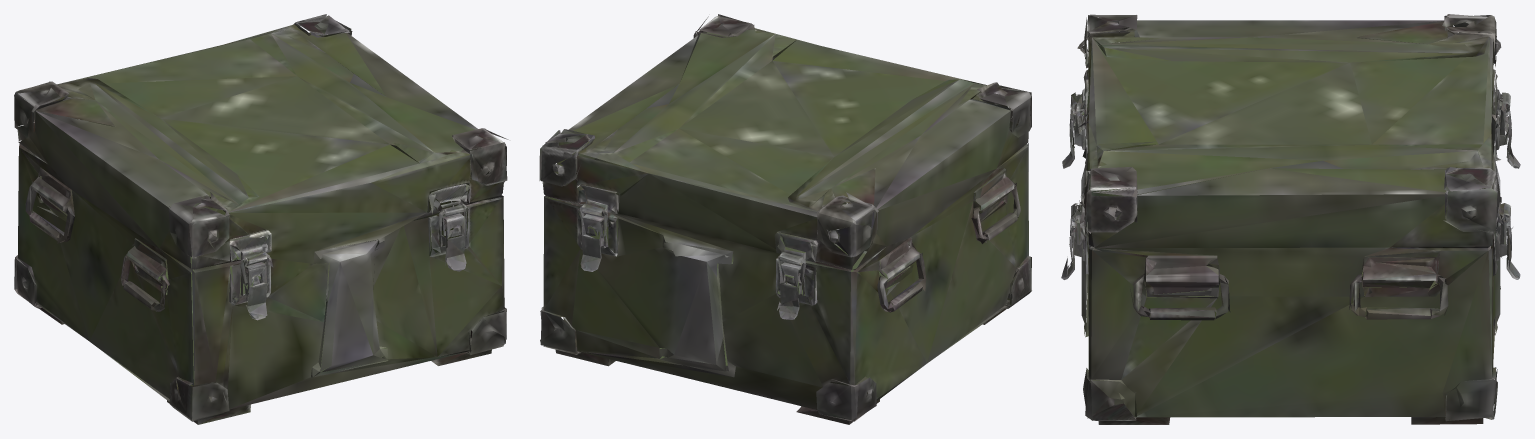
File: crate_steel.glb
3 views of the same model, side by side, from view 1: azimuth 30°, elevation 25°; view 2: azimuth 150°, elevation 25°; view 3: azimuth 270°, elevation 25° (orthographic). The views are drawn at different scales.
Visible parts, largest first — view 1: Mesh_0; view 2: Mesh_0; view 3: Mesh_0.
Boxes of the visible parts, box(x1,y1,x2,y2) form: Mesh_0: box(14, 14, 508, 424); Mesh_0: box(539, 14, 1031, 424); Mesh_0: box(1061, 14, 1520, 424).
Size of the model in its own units: 1.88 by 1.13 by 1.9.
Materials: 1 (1 with a texture image).
